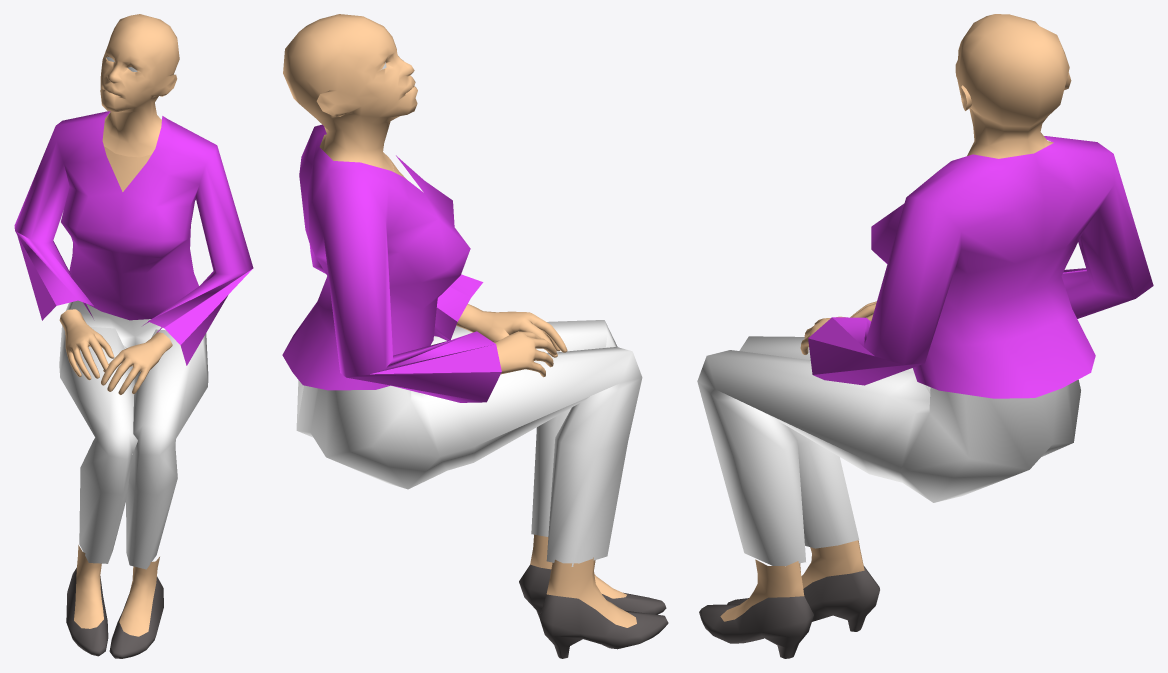
File: player5.gltf
3 renders of one model, left to right at view 1: azimuth 30°, elevation 25°; view 2: azimuth 150°, elevation 25°; view 3: azimuth 270°, elevation 25°, orthographic. The views are drawn at different scales.
Parts seen in each view (by area): view 1: Group_099, Group_101, Group_102, Group_105, Group_106, Group_100; view 2: Group_101, Group_099, Group_102, Group_106, Group_105; view 3: Group_099, Group_101, Group_102, Group_106, Group_105.
Boxes of the visible parts, x1,y1,x2,y2 form: Group_099: [14, 111, 253, 365]; Group_101: [59, 300, 208, 569]; Group_102: [59, 14, 179, 394]; Group_105: [74, 545, 159, 636]; Group_106: [66, 567, 163, 658]; Group_100: [104, 146, 151, 191]; Group_101: [296, 320, 642, 566]; Group_099: [282, 124, 501, 402]; Group_102: [283, 14, 567, 377]; Group_106: [519, 564, 668, 658]; Group_105: [530, 534, 636, 627]; Group_099: [808, 136, 1153, 398]; Group_101: [697, 336, 1080, 565]; Group_102: [800, 14, 1071, 354]; Group_106: [699, 566, 879, 658]; Group_105: [720, 540, 864, 621].
Size of the model in its own units: 1.03 by 2.34 by 1.41.
